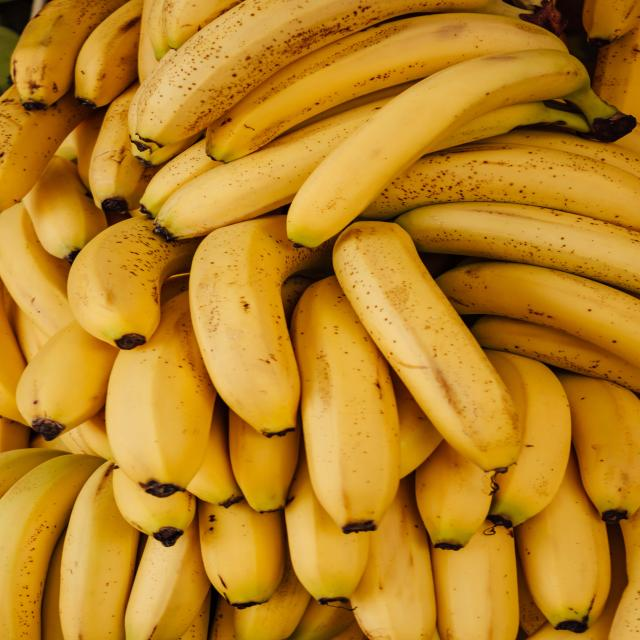Banana: (287, 49, 636, 246), (208, 12, 568, 161), (135, 0, 489, 149), (334, 221, 521, 471), (156, 98, 392, 240), (189, 215, 334, 436), (292, 276, 401, 534), (360, 144, 639, 231), (105, 292, 216, 498), (396, 202, 639, 294), (435, 261, 640, 366), (0, 454, 105, 640), (68, 216, 202, 349), (516, 454, 611, 632), (486, 350, 572, 526), (351, 475, 437, 640), (60, 461, 139, 640), (285, 450, 369, 606), (471, 315, 640, 392), (11, 0, 128, 111), (557, 372, 640, 522), (15, 321, 118, 440), (0, 85, 94, 210), (124, 516, 210, 640), (431, 520, 519, 640), (0, 204, 75, 338), (199, 500, 285, 609), (22, 156, 109, 261), (88, 85, 158, 212), (416, 441, 493, 550), (474, 129, 640, 178), (429, 101, 591, 151), (75, 0, 144, 108), (229, 410, 300, 512), (234, 550, 311, 640), (141, 139, 223, 219), (186, 396, 244, 508), (112, 469, 195, 546), (592, 29, 640, 124), (396, 379, 442, 478), (608, 510, 640, 640), (163, 0, 244, 49), (0, 295, 28, 425), (0, 448, 69, 498), (287, 598, 354, 640), (583, 0, 639, 48), (60, 411, 111, 459), (13, 305, 49, 362), (148, 0, 171, 60), (0, 416, 30, 452), (617, 125, 640, 152), (107, 516, 112, 520), (493, 601, 495, 608), (17, 440, 21, 442), (103, 160, 105, 162), (137, 262, 139, 264)
